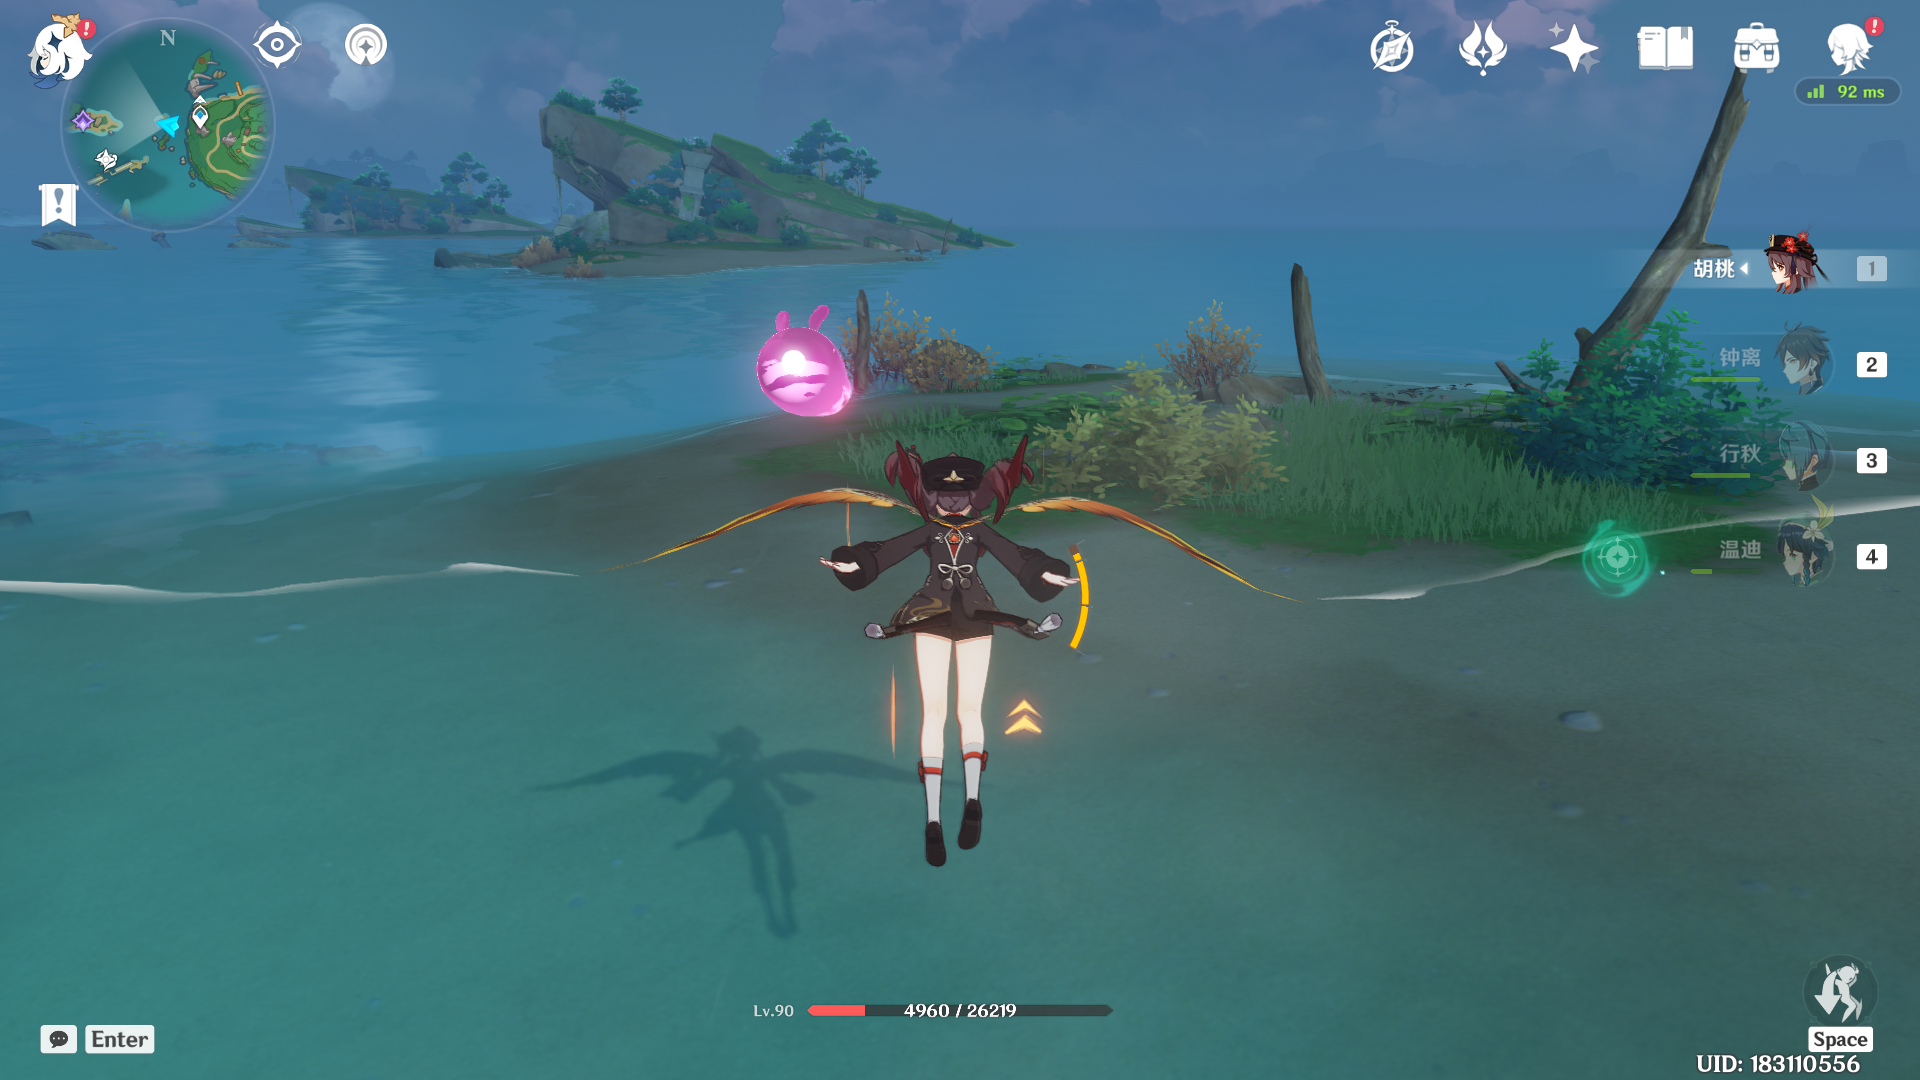character: (781, 438, 1147, 895)
